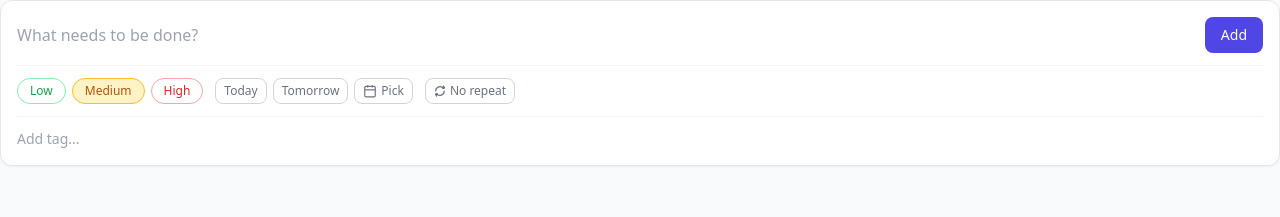
it: TaskInput — repeat chip label › shows "Monthly" after selecting Monthly
The image size is (1280, 217).
Click the button with aria-label "set repeat schedule": (470, 91) left=425, top=78, right=515, bottom=104
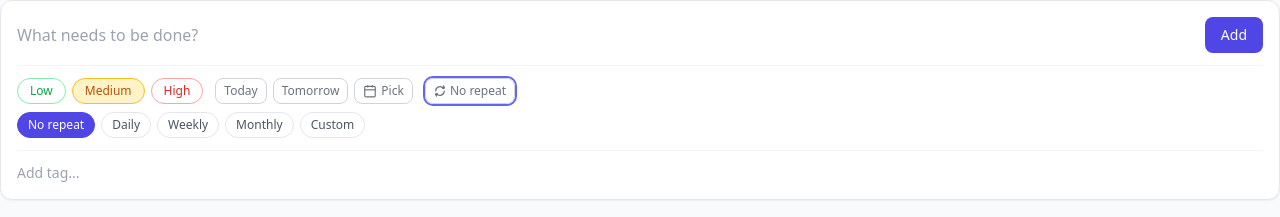
Click the button "Monthly": (259, 125) left=225, top=112, right=294, bottom=138
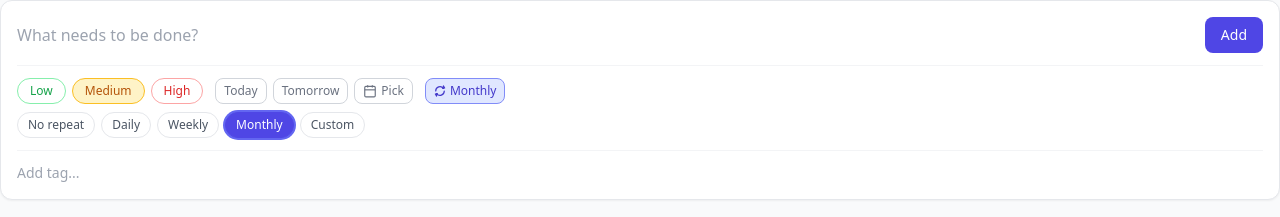
Expected: the button with aria-label "set repeat schedule" reads "Monthly", left=425, top=78, right=505, bottom=104
